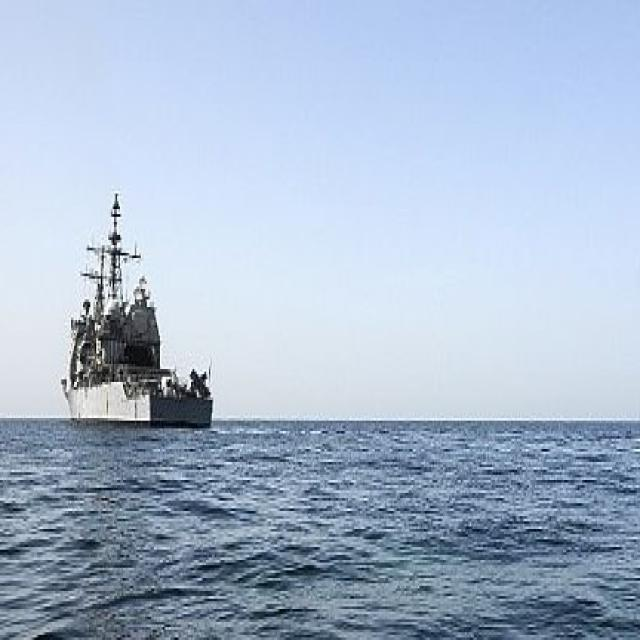navalvessels: (45, 203, 218, 431)
